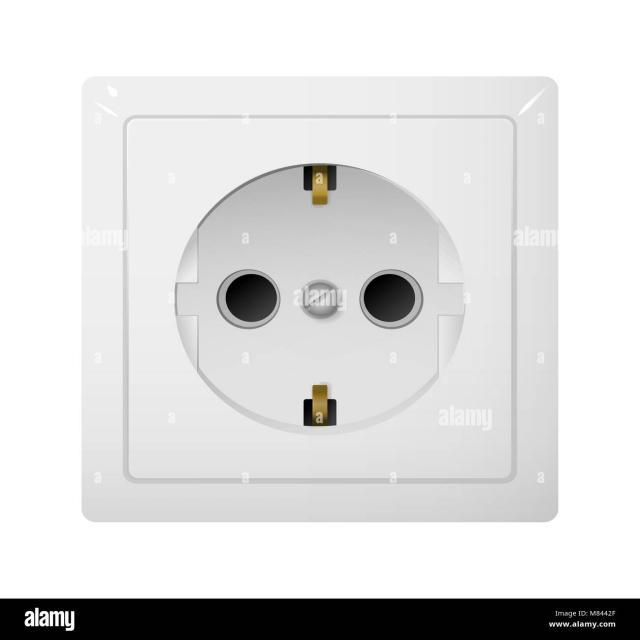typeb: (58, 48, 582, 528)
